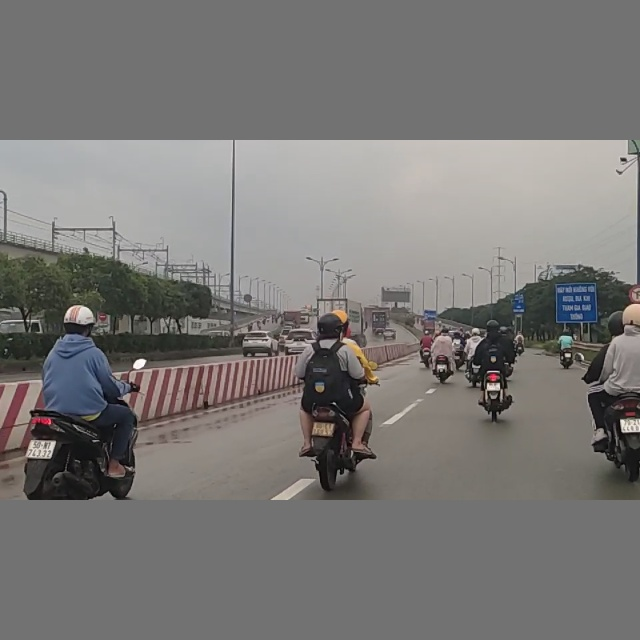P.123b: (629, 285, 640, 303)
